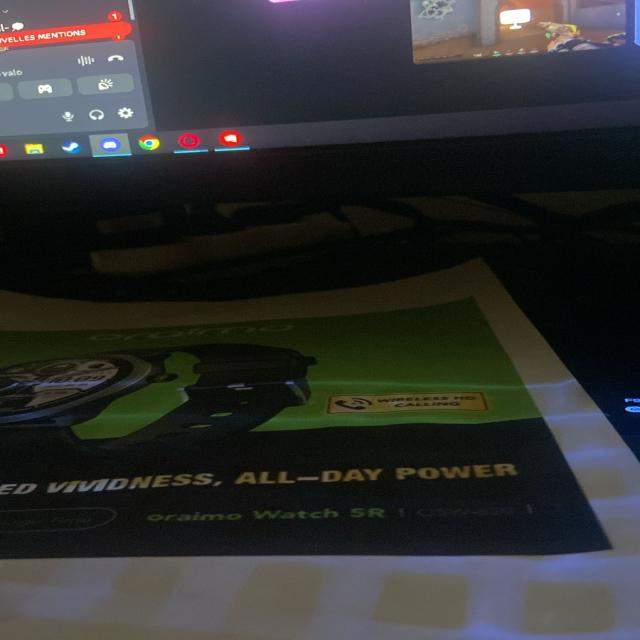Oraimo Watch 5R OSW-820: (135, 497, 558, 538)
